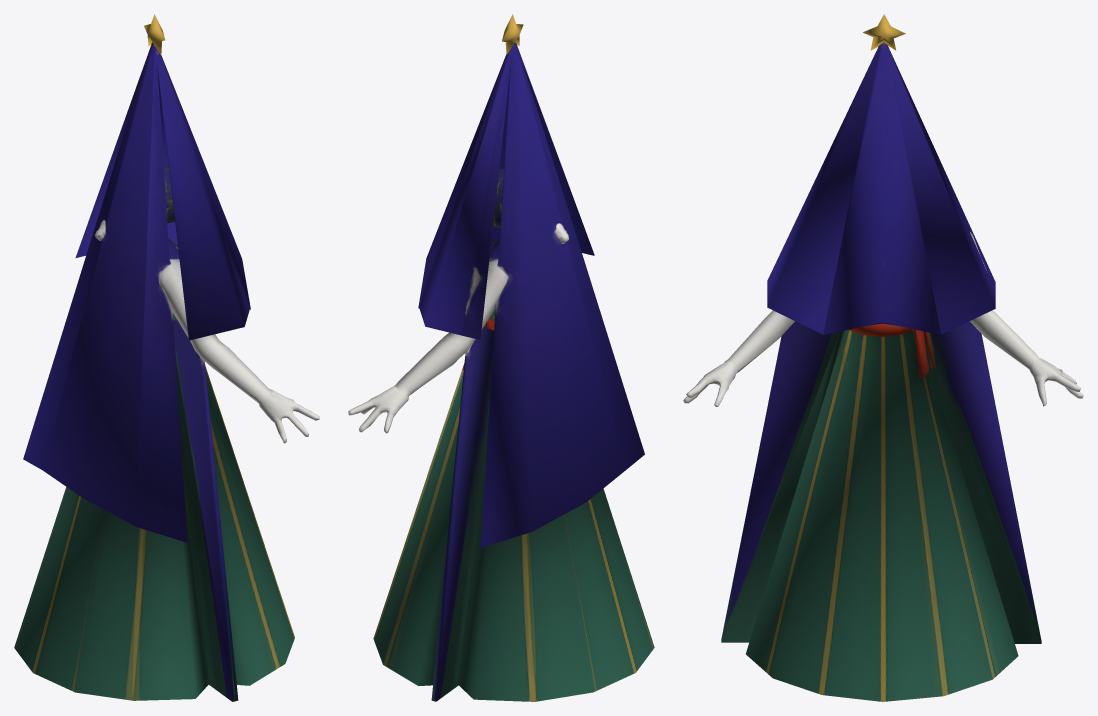
3 renders of one model, left to right at view 1: azimuth 30°, elevation 25°; view 2: azimuth 150°, elevation 25°; view 3: azimuth 270°, elevation 25°, orthographic.
Visible parts, largest first — view 1: tripo_node_6e638ee2-12f1-4dad-b131-e346a67b4d2d; view 2: tripo_node_6e638ee2-12f1-4dad-b131-e346a67b4d2d; view 3: tripo_node_6e638ee2-12f1-4dad-b131-e346a67b4d2d.
Boxes of the visible parts, x1,y1,x2,y2 form: tripo_node_6e638ee2-12f1-4dad-b131-e346a67b4d2d: [14, 14, 319, 701]; tripo_node_6e638ee2-12f1-4dad-b131-e346a67b4d2d: [348, 14, 654, 701]; tripo_node_6e638ee2-12f1-4dad-b131-e346a67b4d2d: [683, 14, 1083, 701].
Bounding box in the file's own units: 0.4043 × 0.998 × 0.5762.
Materials: 1 (1 with a texture image).
